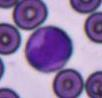M: (24, 25, 74, 72)
